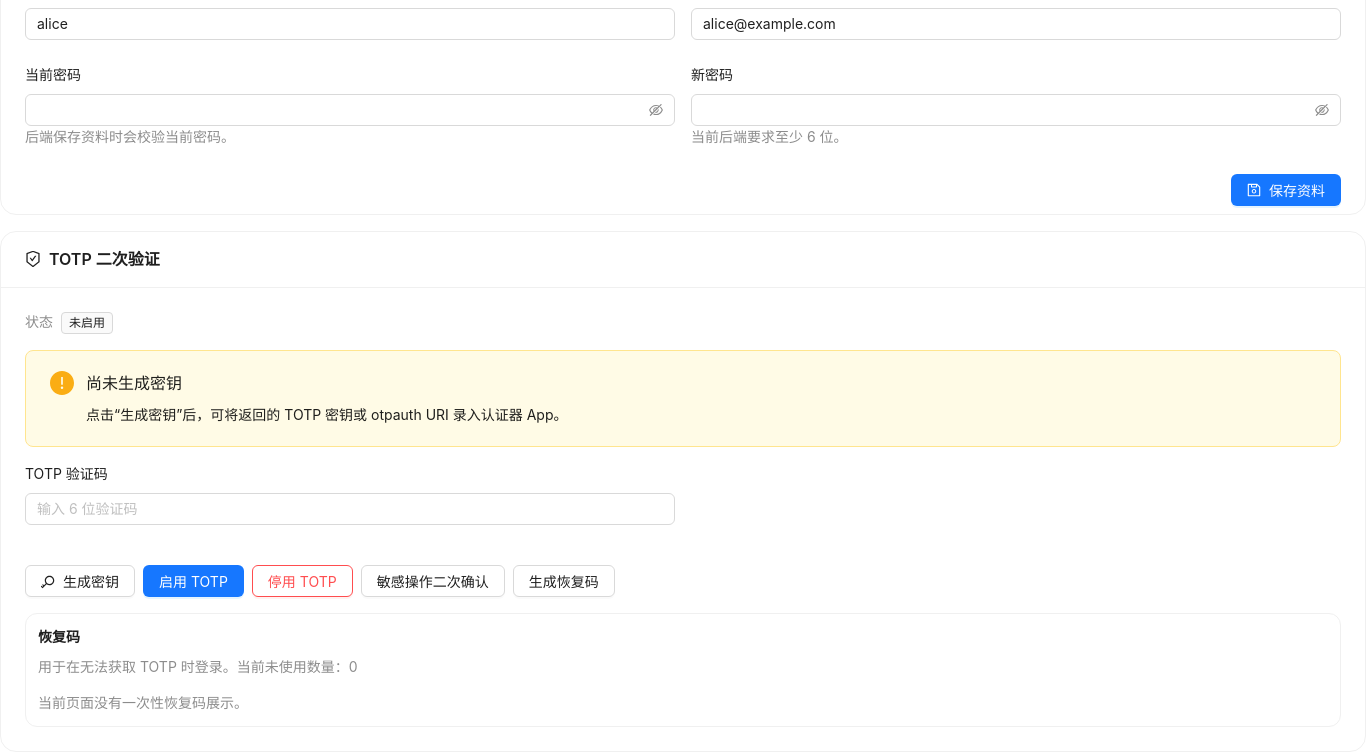
Test: ProfilePage › submits totp_generate and refreshes the server returned totp state from html
(page scrolled)
Click the button "生成密钥": (80, 581) [25, 565, 135, 597]
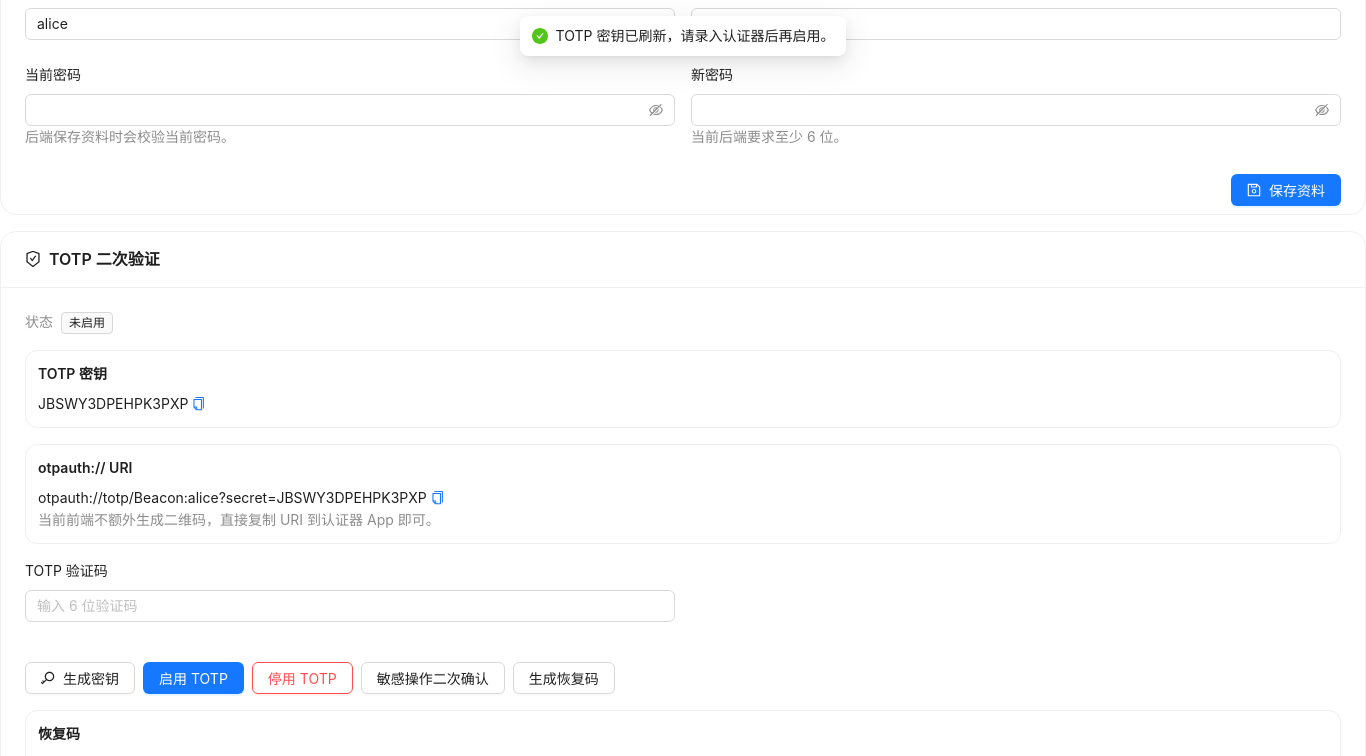
Now the text "JBSWY3DPEHPK3PXP" is shown, box [38, 395, 206, 412]
Now the text "otpauth://totp/Beacon:alice?secret=JBSWY3DPEHPK3PXP" is shown, box [38, 489, 444, 506]
